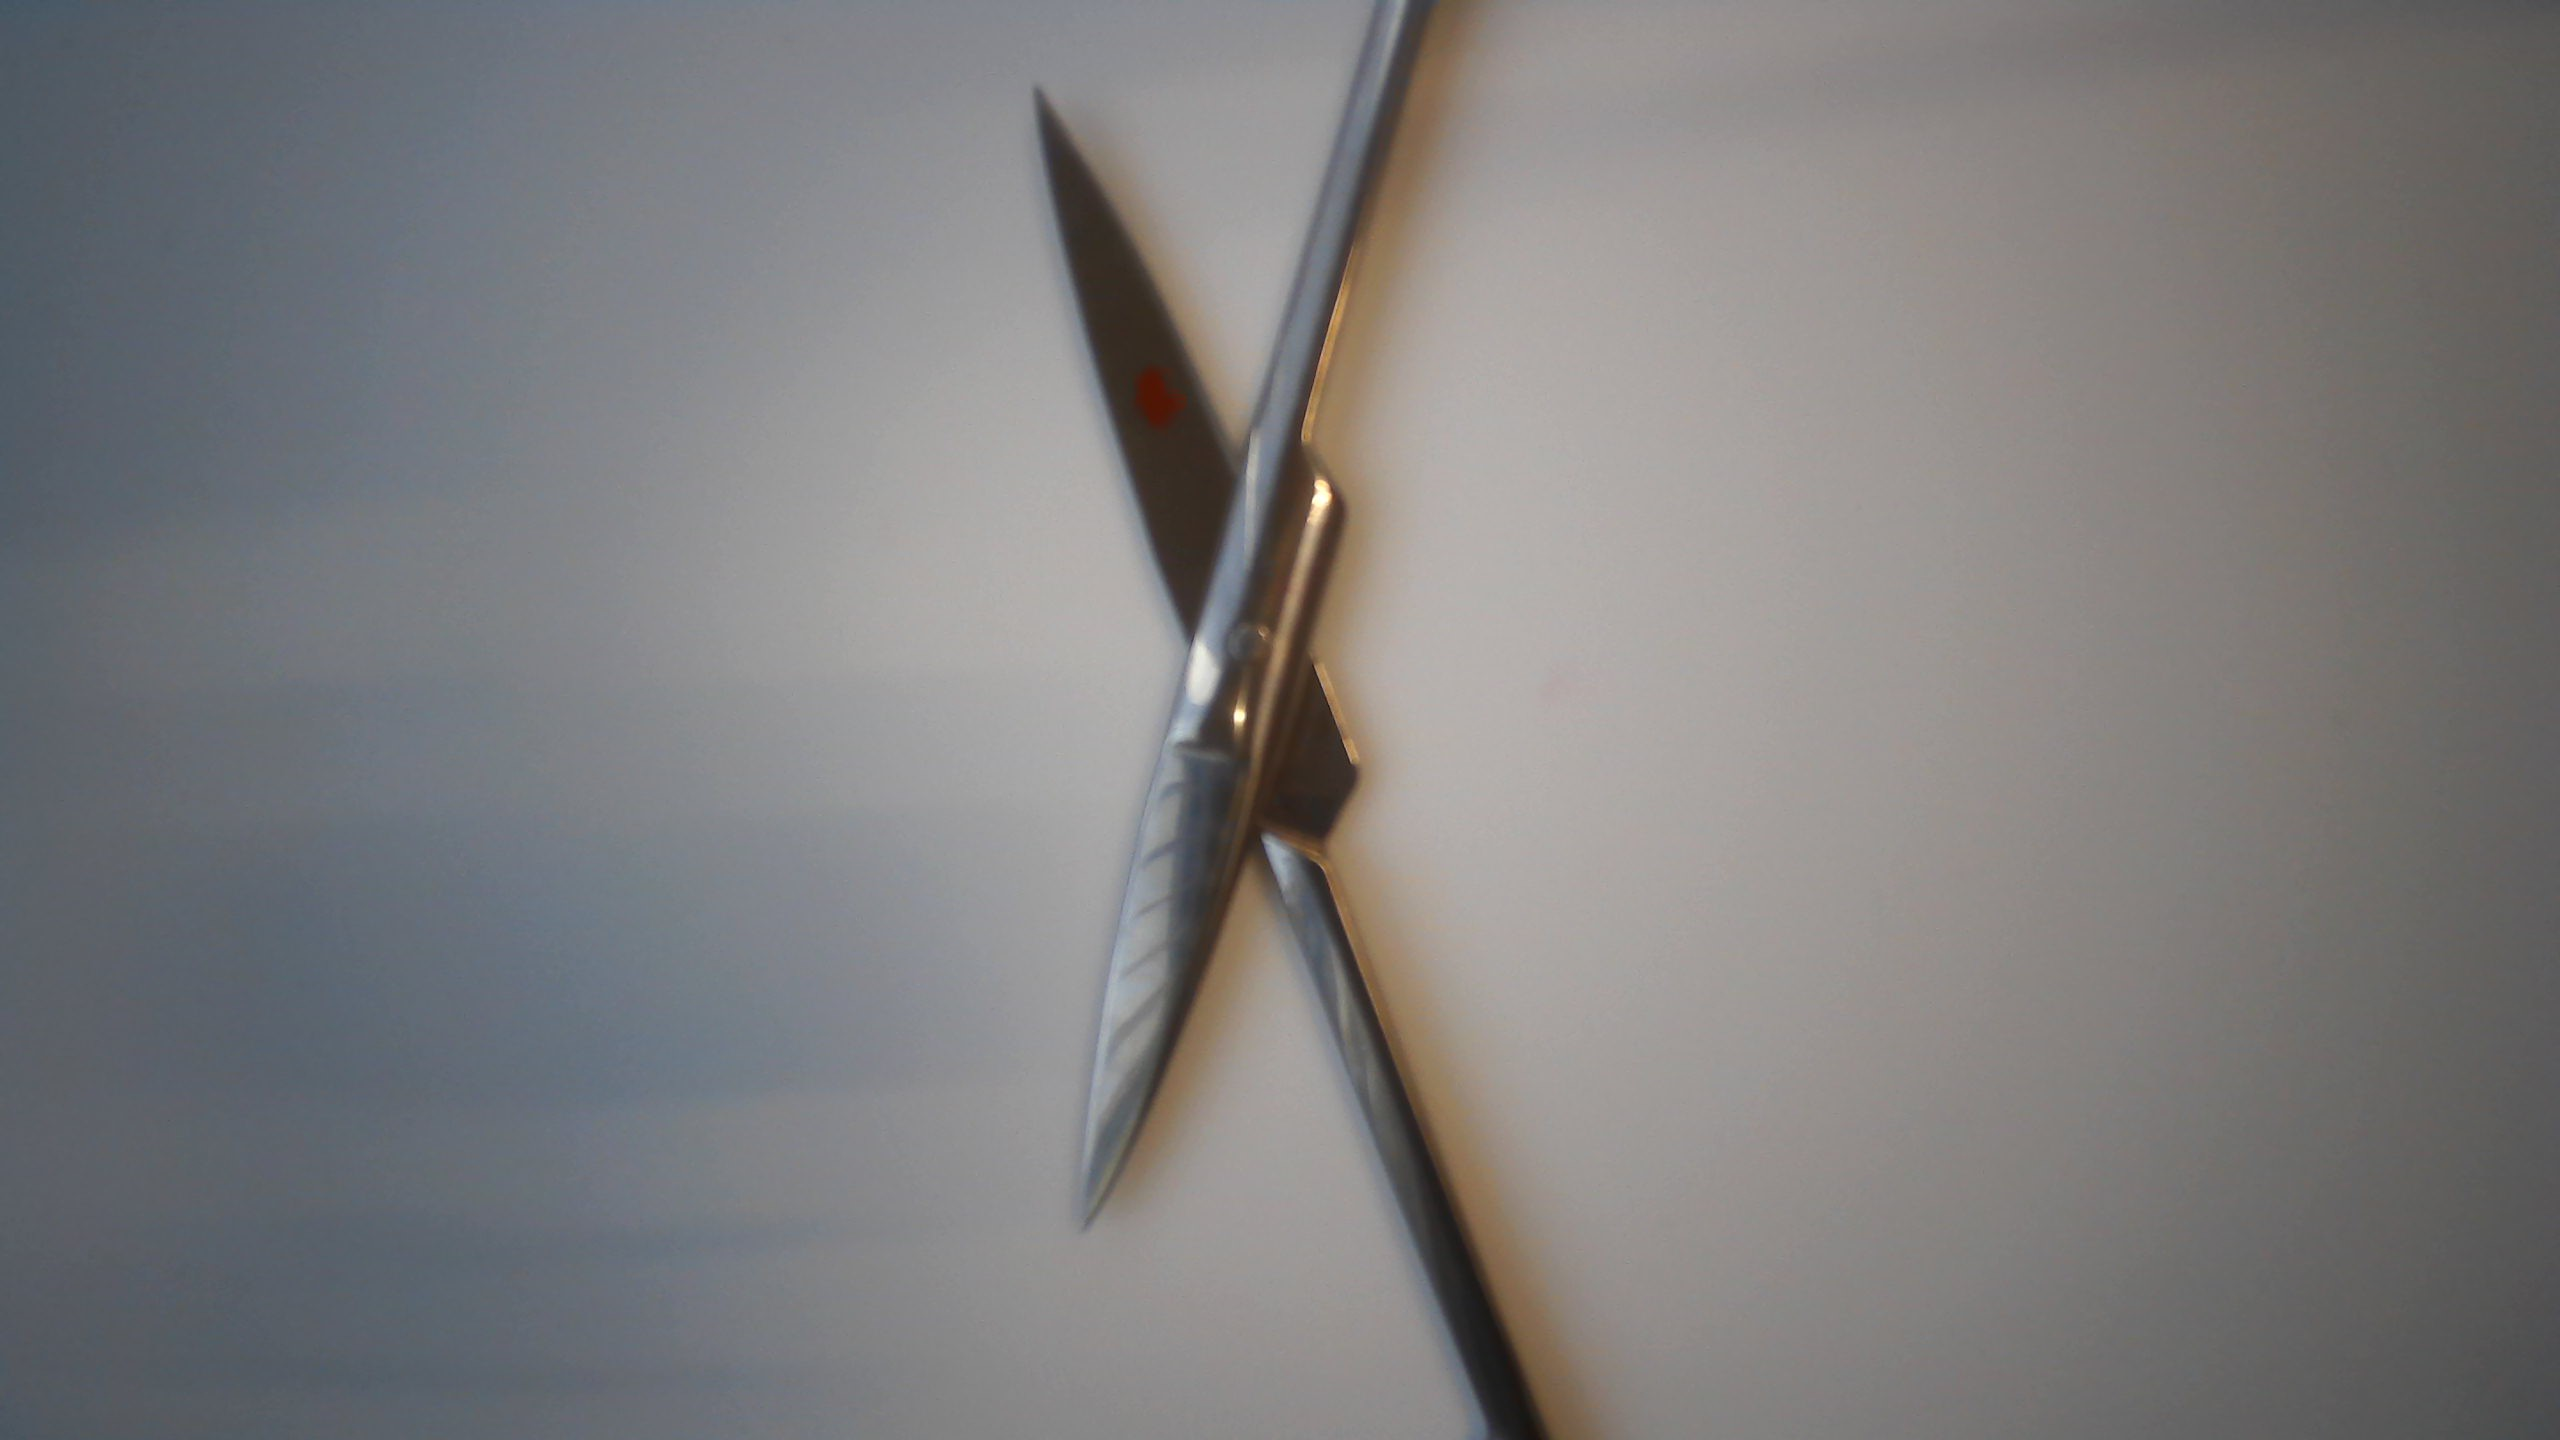Stain: (1124, 353, 1190, 441)
